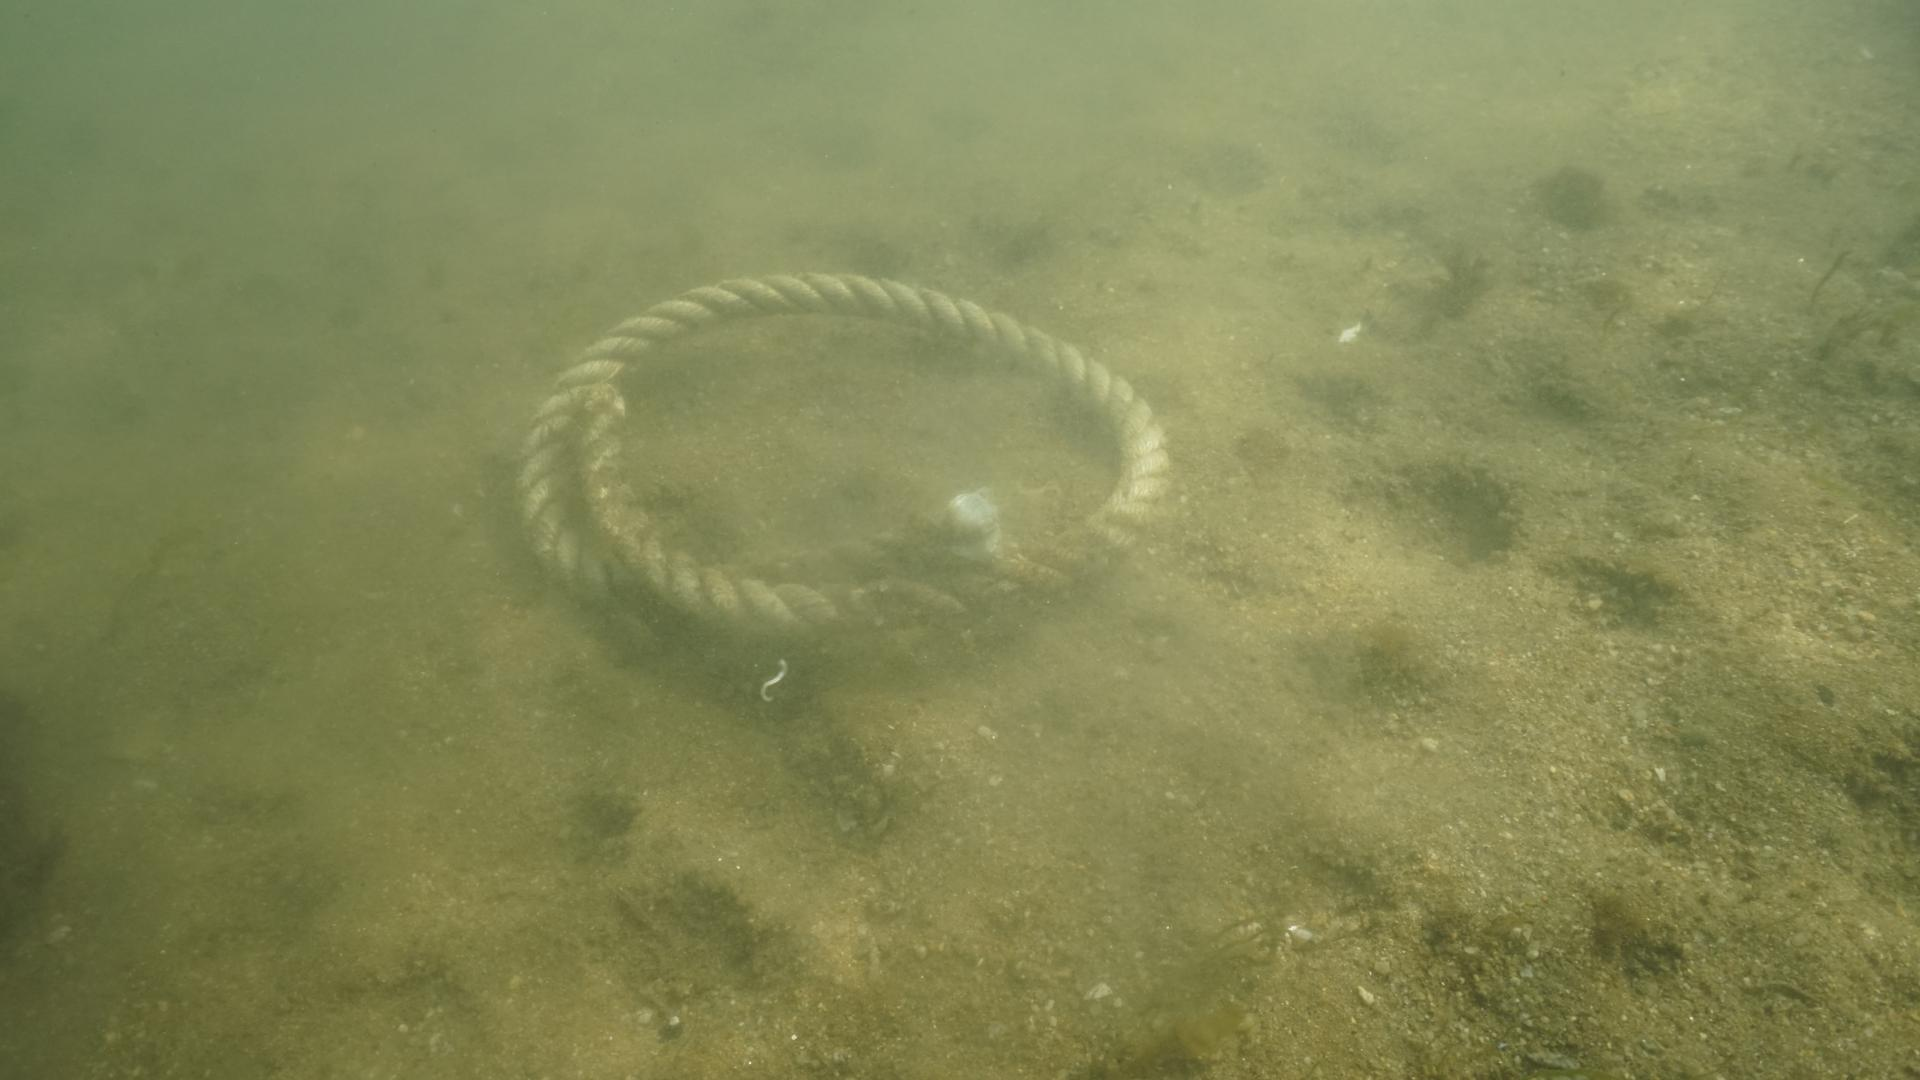bundle of ropes: (509, 261, 1174, 640)
